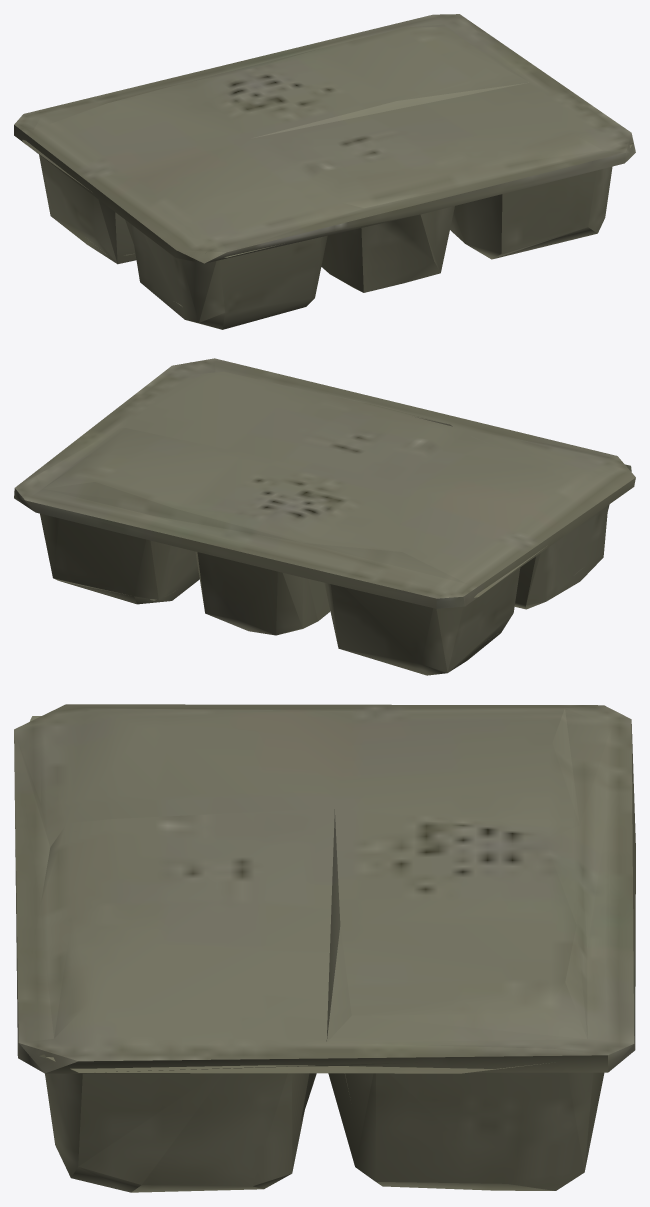
Rendered from res.food_prepared.glb.
The picture shows the model from 3 angles, top to bottom: view 1: azimuth 30°, elevation 25°; view 2: azimuth 150°, elevation 25°; view 3: azimuth 270°, elevation 25°; orthographic projection. The views are drawn at different scales.
Visible parts, largest first — view 1: body; view 2: body; view 3: body.
Part boxes in pixels (bbox=[...]): body: bbox=[14, 14, 635, 329]; body: bbox=[14, 358, 635, 675]; body: bbox=[14, 704, 635, 1192].
Bounding box in the file's own units: 0.378 × 0.091 × 0.2753.
Materials: 1 (1 with a texture image).
